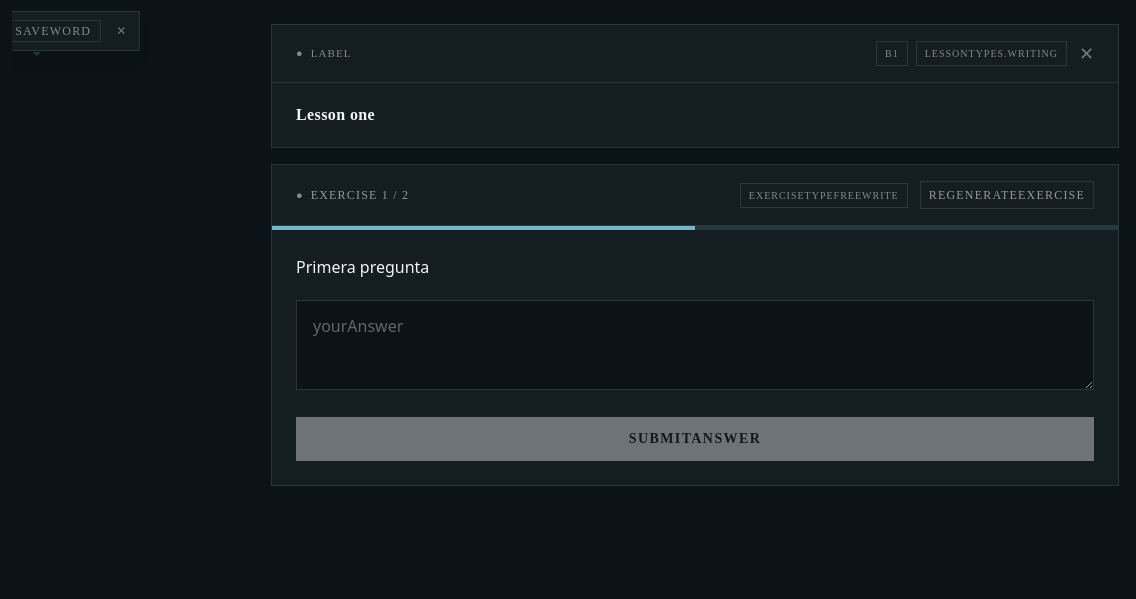
Test: Lesson page word tooltip › dismisses the word tooltip when navigating to the next exercise
Type "respuesta" into the text box with placeholder "yourAnswer" at (695,345), box top-left (296, 300), bottom-right (1094, 390)
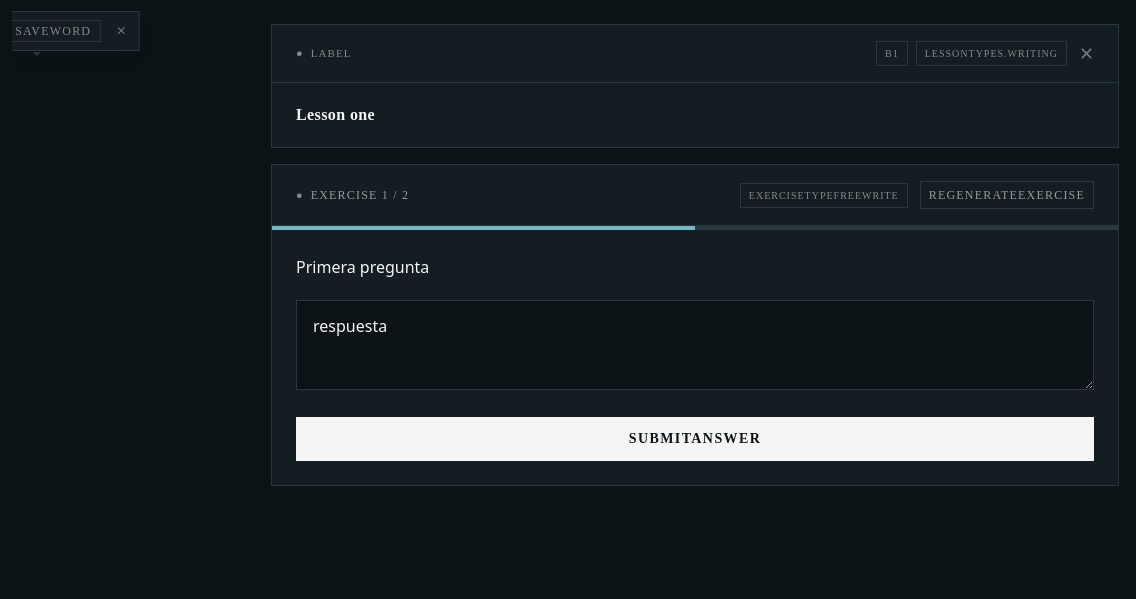
Click the button "submitAnswer" at (695,439), box top-left (296, 417), bottom-right (1094, 461)
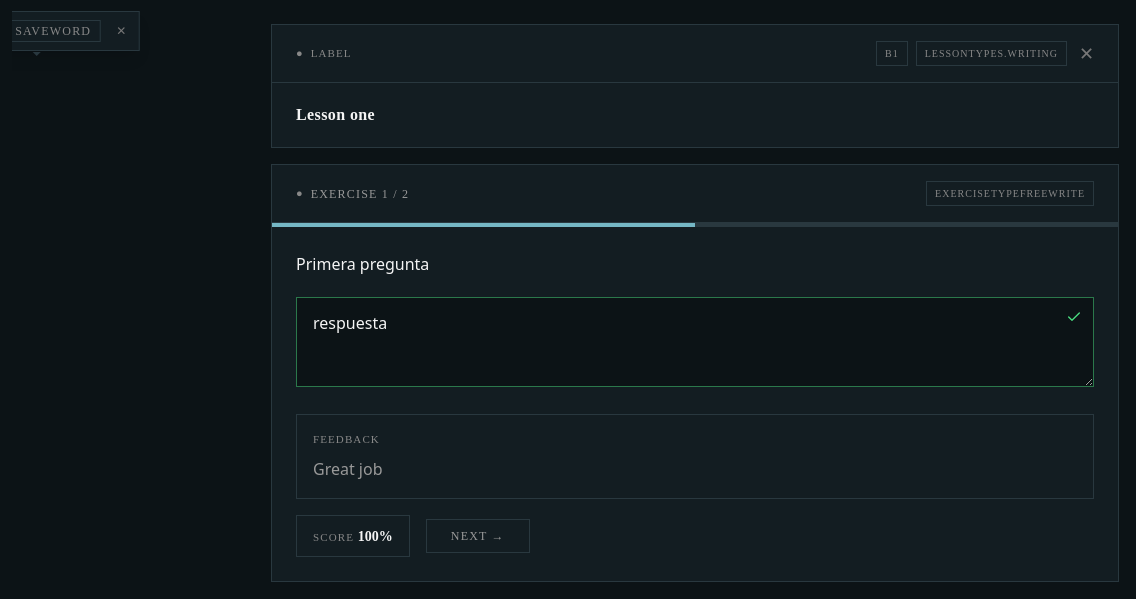
Check: the text "Great job" is shown, box top-left (313, 458), bottom-right (382, 480)
Click the button "next →" at (478,536), box top-left (426, 518), bottom-right (530, 552)
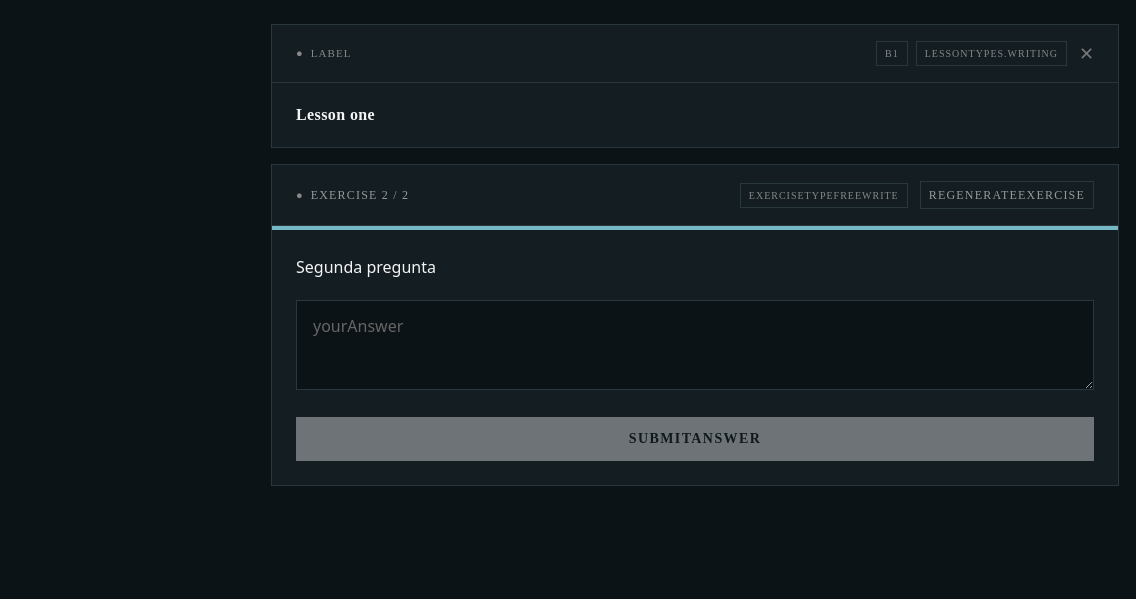
Check: the text "Segunda pregunta" is shown, box top-left (296, 256), bottom-right (436, 278)
Check: the button "saveWord" is gone
